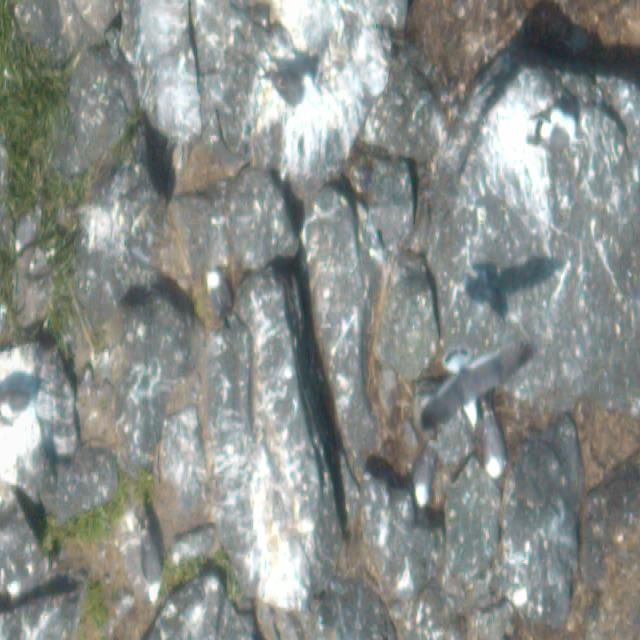F: (434, 331, 521, 427)
umineko: (270, 62, 317, 111), (535, 107, 577, 154), (141, 520, 162, 609), (482, 406, 506, 479), (414, 444, 438, 510), (206, 270, 231, 320)
